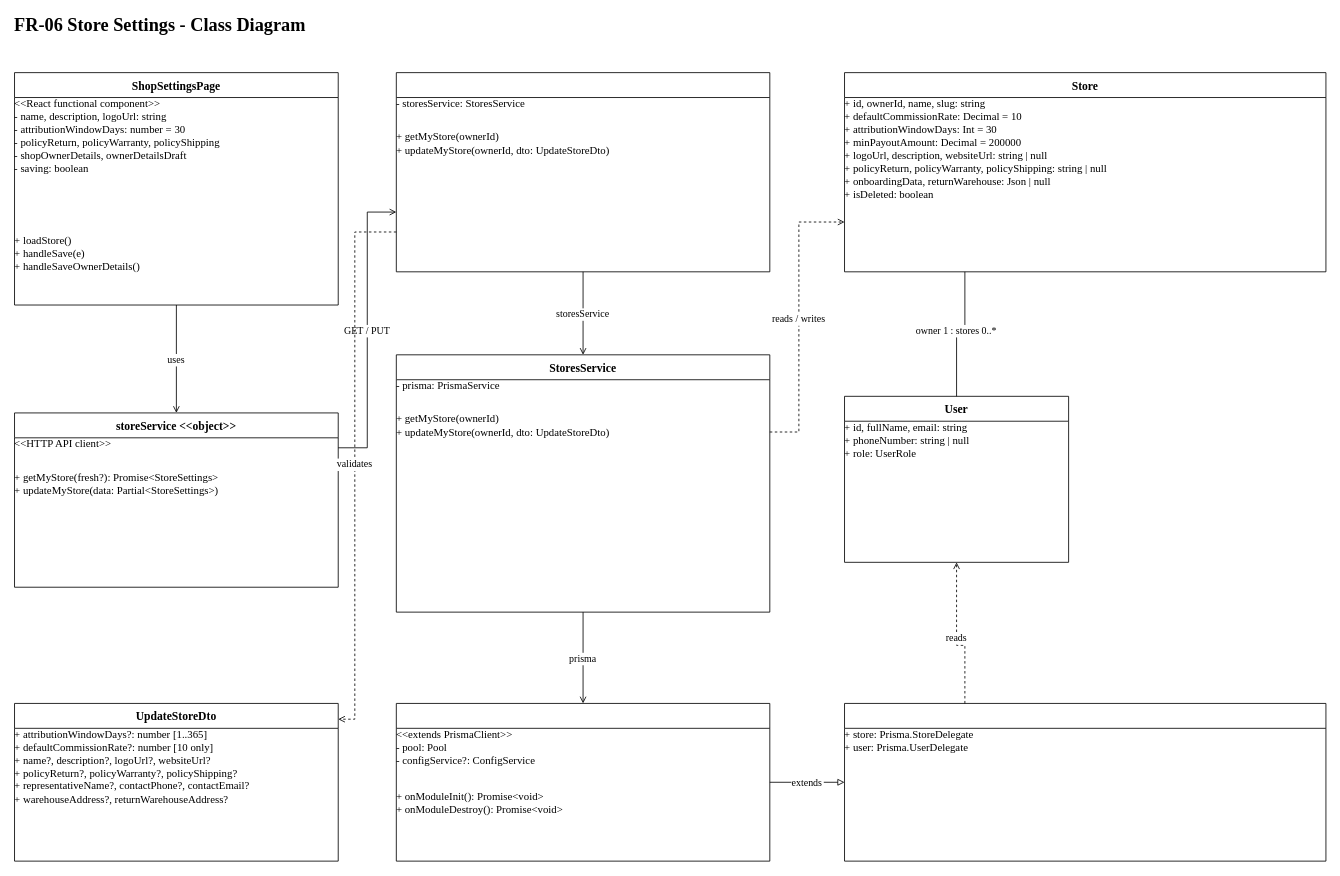
This 1340x876 diagram has some shape labels left out. The box of each missing label's shape, as (x1, y1, x2, y2) in pixels:
PrismaClient: (844, 703, 1326, 861)
PrismaService: (395, 703, 770, 861)
StoresController: (395, 72, 770, 272)
